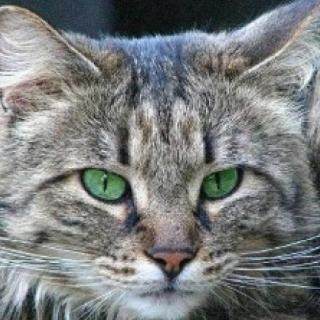cat: (0, 4, 317, 320)
nose: (134, 209, 208, 280)
